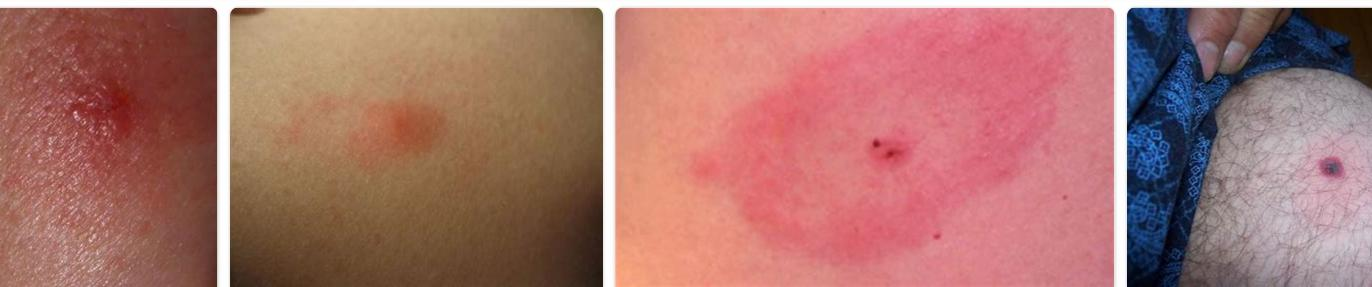Tick: (695, 12, 1068, 262), (318, 76, 486, 171), (45, 49, 171, 168), (1275, 109, 1372, 215)
